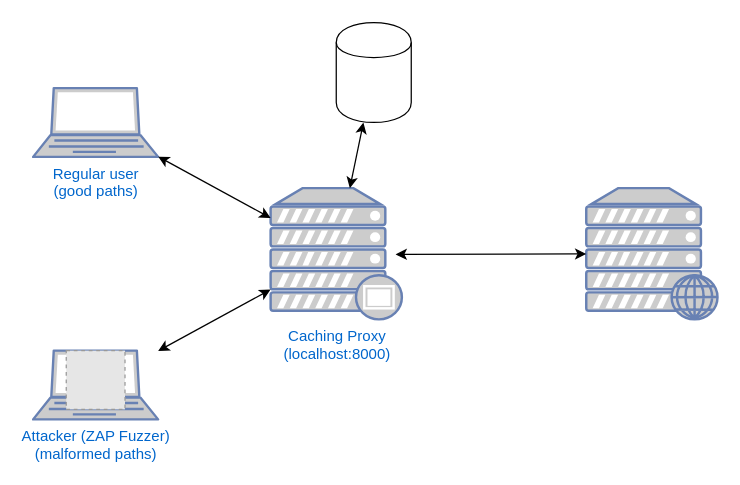
The diagram is 740 pixels wide and 485 high, and some of its shapes have lost their labels. Grey dashed boxes stand in for pictures. Each missing label, with the centre of its shape:
"Cache Storage" belongs at point 373,71.
"WebApp (localhost:8088)" belongs at point 651,253.
